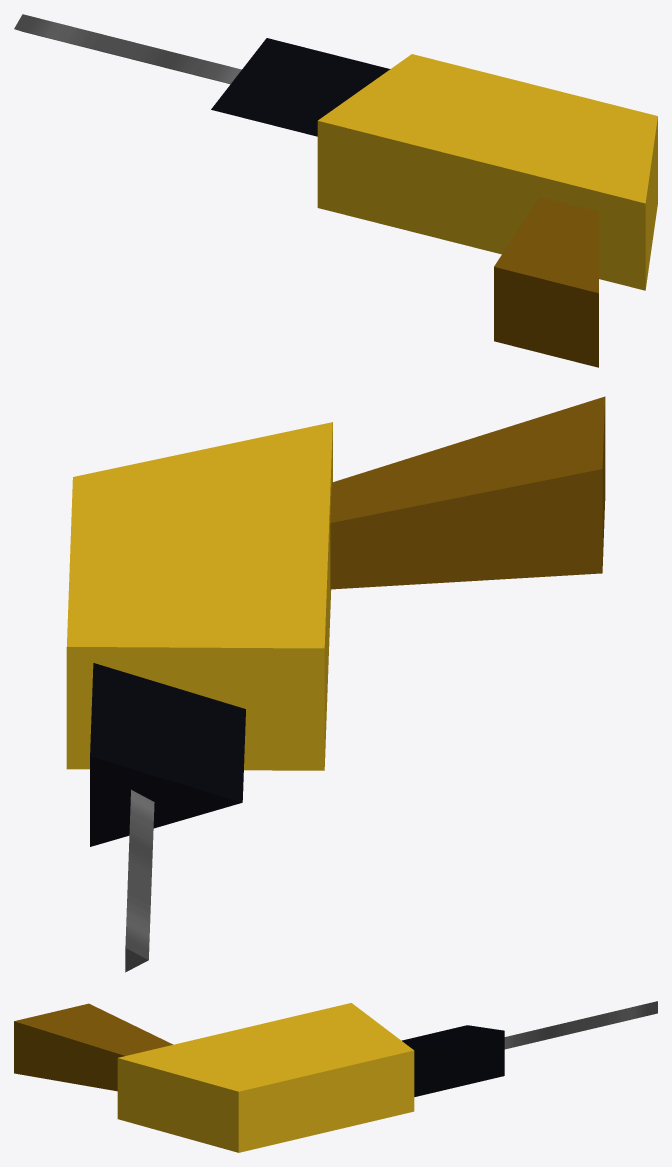
Rendered from Drill.fbx.
3 renders of one model, top to bottom at view 1: azimuth 30°, elevation 25°; view 2: azimuth 150°, elevation 25°; view 3: azimuth 270°, elevation 25°, orthographic. The views are drawn at different scales.
Parts seen in each view (by area): view 1: Hall.094; view 2: Hall.094; view 3: Hall.094.
Part boxes in pixels (x1,y1,x2,y2): Hall.094: (14,14,657,367); Hall.094: (66,396,605,972); Hall.094: (14,1001,657,1152).
Bounding box in the file's own units: 41.67 × 9.95 × 94.96.
